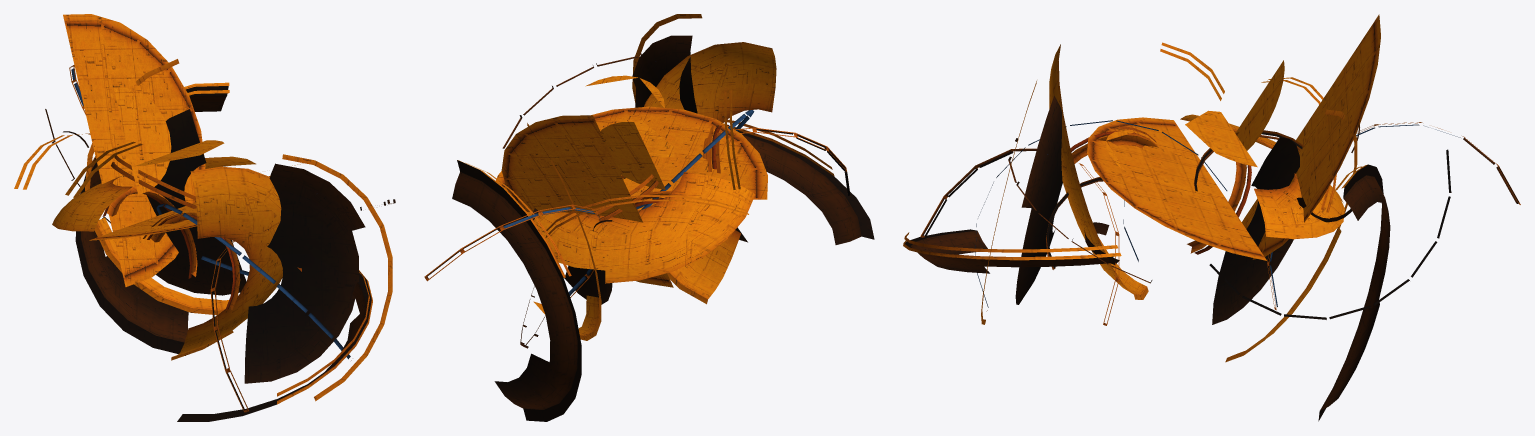
Rendered from MonsterB_Die15.obj.
The picture shows the model from 3 angles, left to right: view 1: azimuth 30°, elevation 25°; view 2: azimuth 150°, elevation 25°; view 3: azimuth 270°, elevation 25°; orthographic projection. The views are drawn at different scales.
Parts seen in each view (by area): view 1: Sphere001; view 2: Sphere001; view 3: Sphere001.
Part boxes in pixels (x1,y1,x2,y2): Sphere001: (14,14,395,421); Sphere001: (424,14,874,421); Sphere001: (903,14,1520,421).
Size of the model in its own units: 248 by 271 by 422.
Materials: 1 (1 with a texture image).
